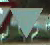Give way: (0, 0, 45, 44)
